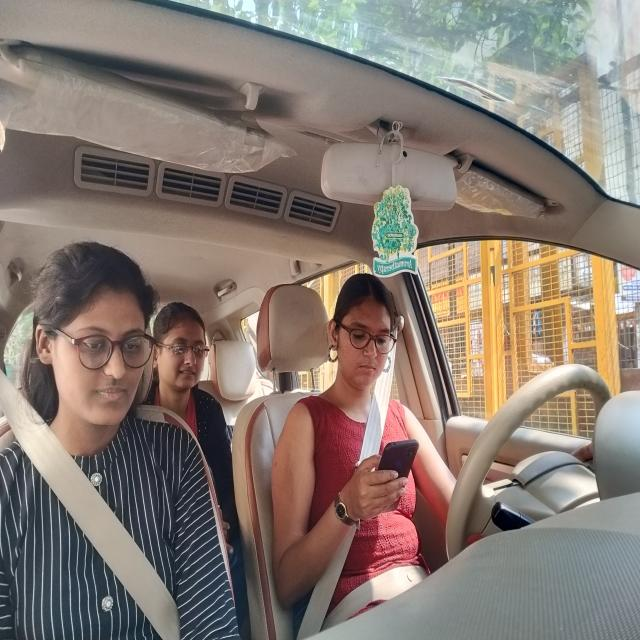mobile: (363, 438, 443, 506)
person: (25, 231, 159, 442), (310, 268, 406, 408), (147, 283, 220, 422)
